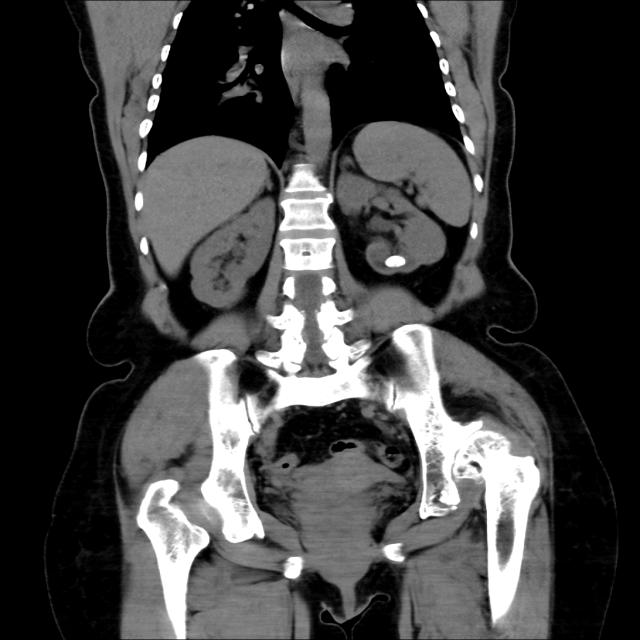kidneystone: (385, 255, 407, 268)
